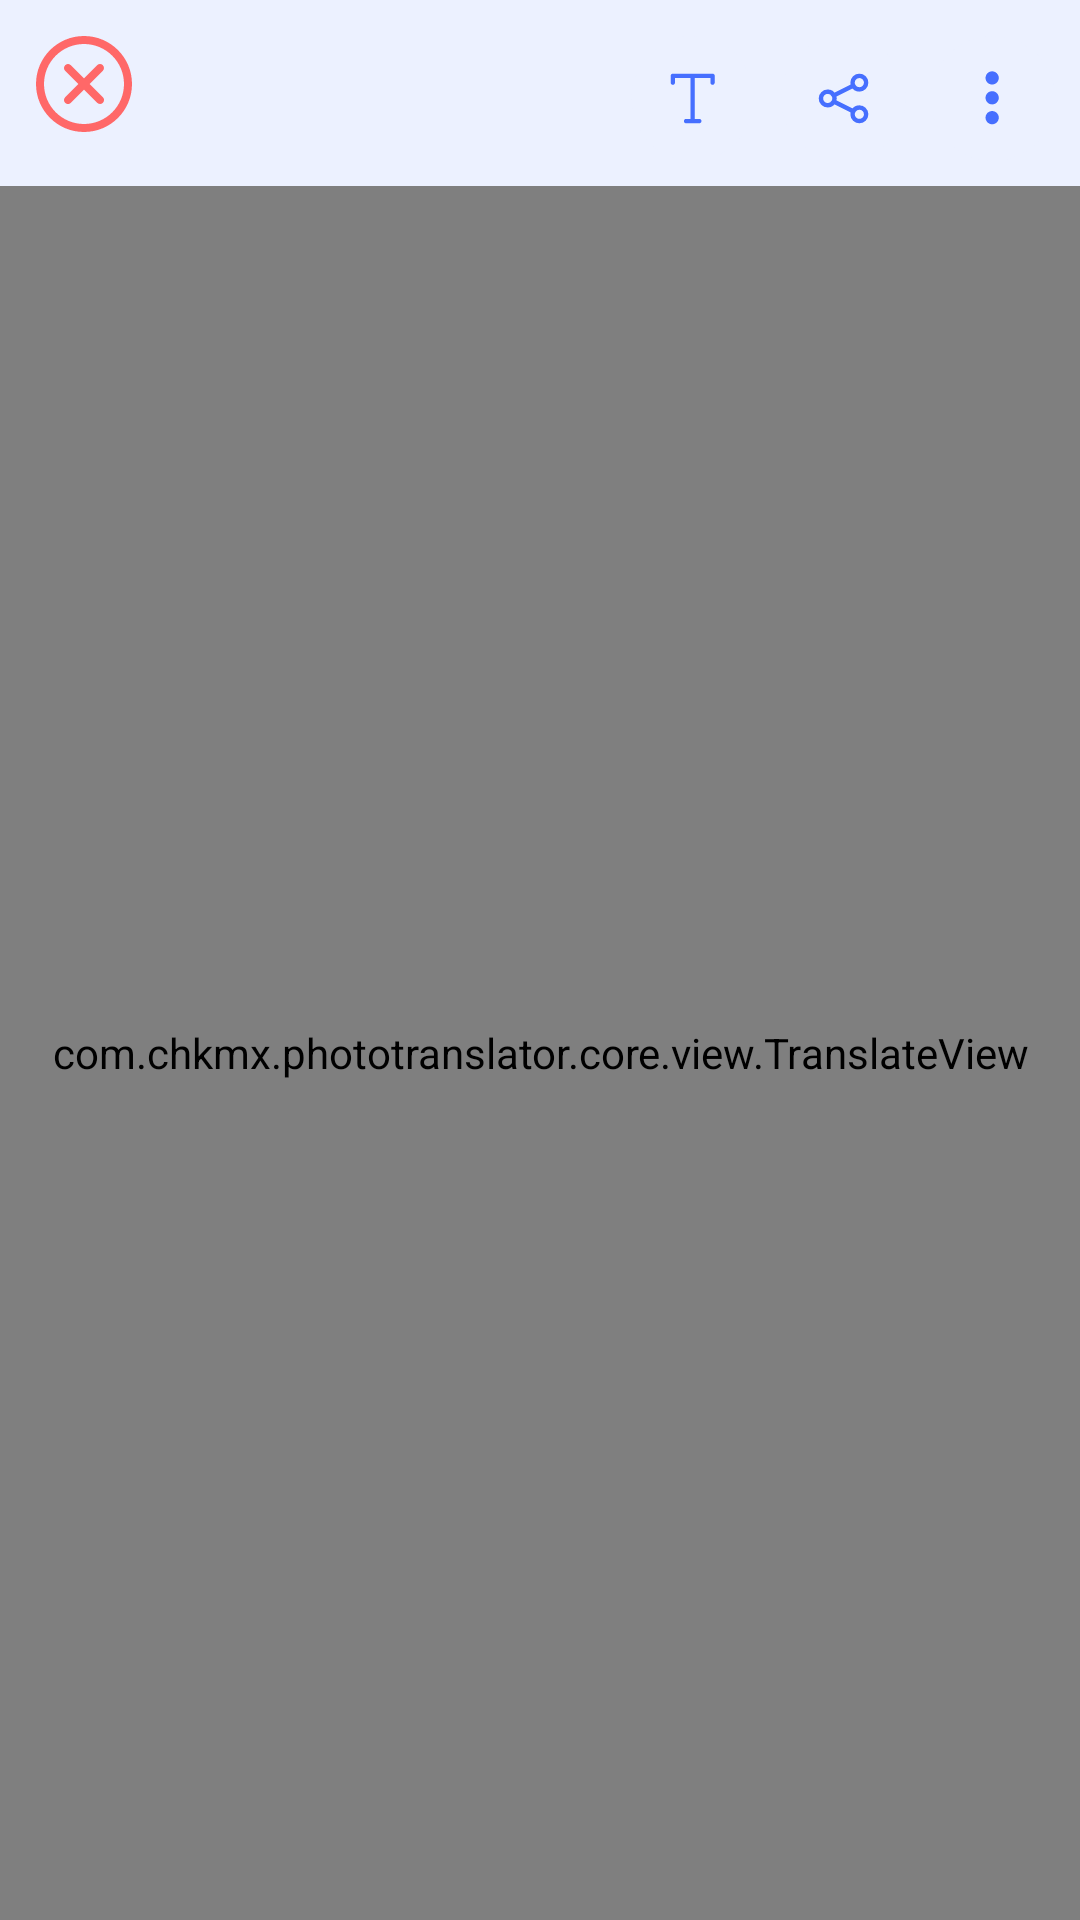

Screen size 1080 x 1920. Icon name, then its box in pixels as rect(x1, y1, x2, y2):
close: rect(36, 36, 132, 132)
share: rect(818, 73, 869, 124)
text: rect(670, 73, 715, 124)
three dot: rect(985, 71, 999, 125)
